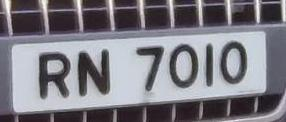0: (166, 38, 204, 93), (215, 34, 251, 90)
1: (201, 38, 220, 90)
7: (132, 40, 166, 95)
N: (73, 41, 117, 102)
R: (32, 44, 77, 107)
